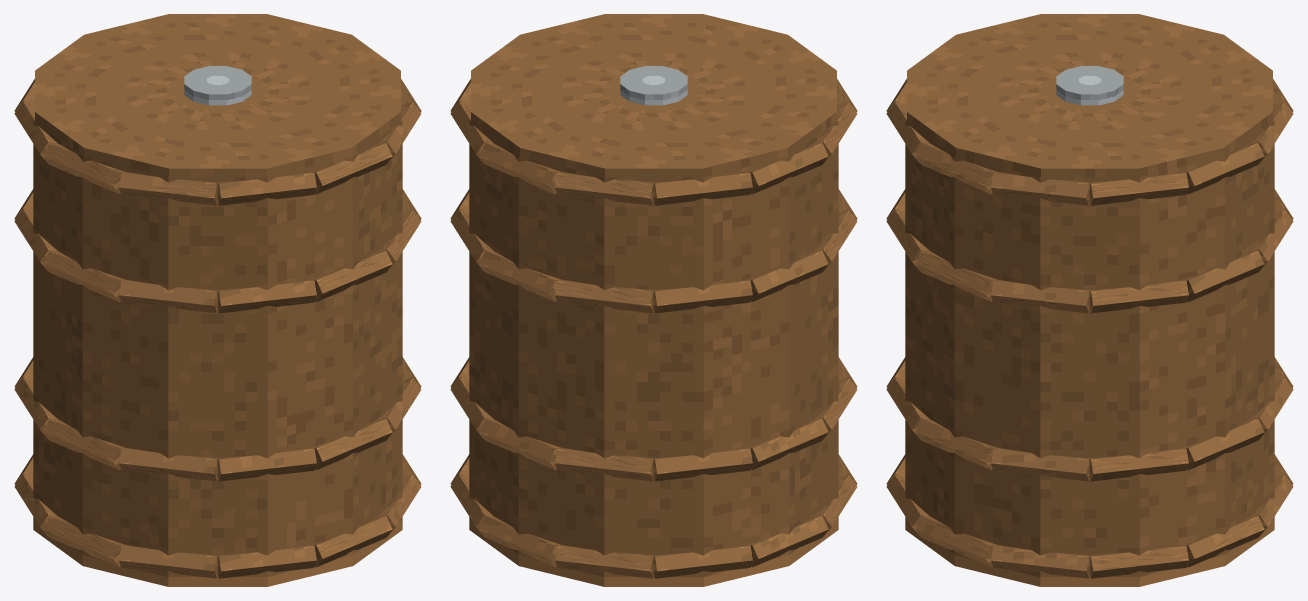
File: wooden_barrel.glb
3 renders of one model, left to right at view 1: azimuth 30°, elevation 25°; view 2: azimuth 150°, elevation 25°; view 3: azimuth 270°, elevation 25°, orthographic.
Parts seen in each view (by area): view 1: block_walls, block_lid, block_hoop3 (×4), block_hoop4 (×4), block_hoop2 (×4), block_hoop5 (×4), block_hoop1 (×4), block_hoop6 (×4), block_bung, block_foot; view 2: block_walls, block_lid, block_hoop7 (×4), block_hoop8 (×4), block_hoop6 (×4), block_hoop9 (×4), block_hoop5 (×4), block_hoop10 (×4), block_bung, block_foot; view 3: block_walls, block_lid, block_hoop0 (×4), block_hoop11 (×4), block_hoop1 (×4), block_hoop10 (×4), block_hoop2 (×4), block_hoop9 (×4), block_bung, block_foot.
Boxes of the visible parts, x1,y1,x2,y2 form: block_walls: [33, 120, 402, 586]; block_lid: [35, 14, 400, 177]; block_hoop3 (×4): [218, 172, 316, 578]; block_hoop4 (×4): [119, 172, 217, 578]; block_hoop2 (×4): [311, 143, 392, 567]; block_hoop5 (×4): [43, 143, 124, 567]; block_hoop1 (×4): [378, 102, 421, 536]; block_hoop6 (×4): [14, 102, 57, 536]; block_bung: [184, 66, 251, 105]; block_foot: [33, 517, 402, 586]; block_walls: [469, 120, 838, 586]; block_lid: [471, 14, 836, 177]; block_hoop7 (×4): [654, 172, 752, 578]; block_hoop8 (×4): [555, 172, 653, 578]; block_hoop6 (×4): [747, 143, 828, 567]; block_hoop9 (×4): [479, 143, 560, 567]; block_hoop5 (×4): [814, 102, 857, 536]; block_hoop10 (×4): [450, 102, 493, 536]; block_bung: [620, 66, 687, 105]; block_foot: [469, 517, 838, 586]; block_walls: [905, 120, 1274, 586]; block_lid: [907, 14, 1272, 177]; block_hoop0 (×4): [991, 172, 1089, 578]; block_hoop11 (×4): [1090, 172, 1188, 578]; block_hoop1 (×4): [915, 143, 996, 567]; block_hoop10 (×4): [1183, 143, 1264, 567]; block_hoop2 (×4): [886, 102, 929, 536]; block_hoop9 (×4): [1250, 102, 1293, 536]; block_bung: [1056, 66, 1123, 105]; block_foot: [905, 517, 1274, 586].
Bounding box in the file's own units: 0.594 × 0.69 × 0.594.
Materials: 2 (2 with a texture image).
